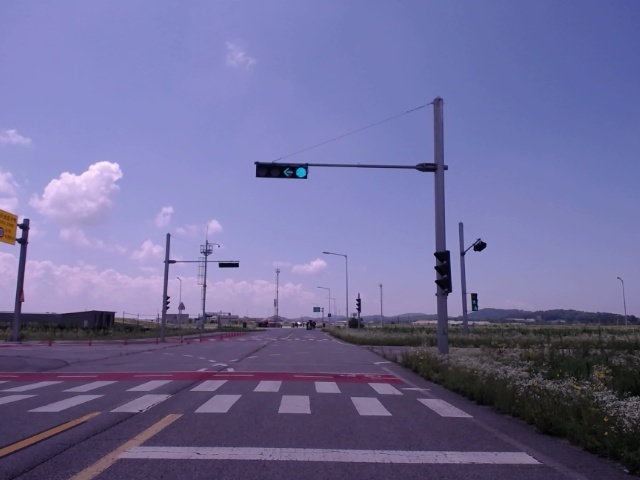all_green_4: (256, 162, 308, 180)
